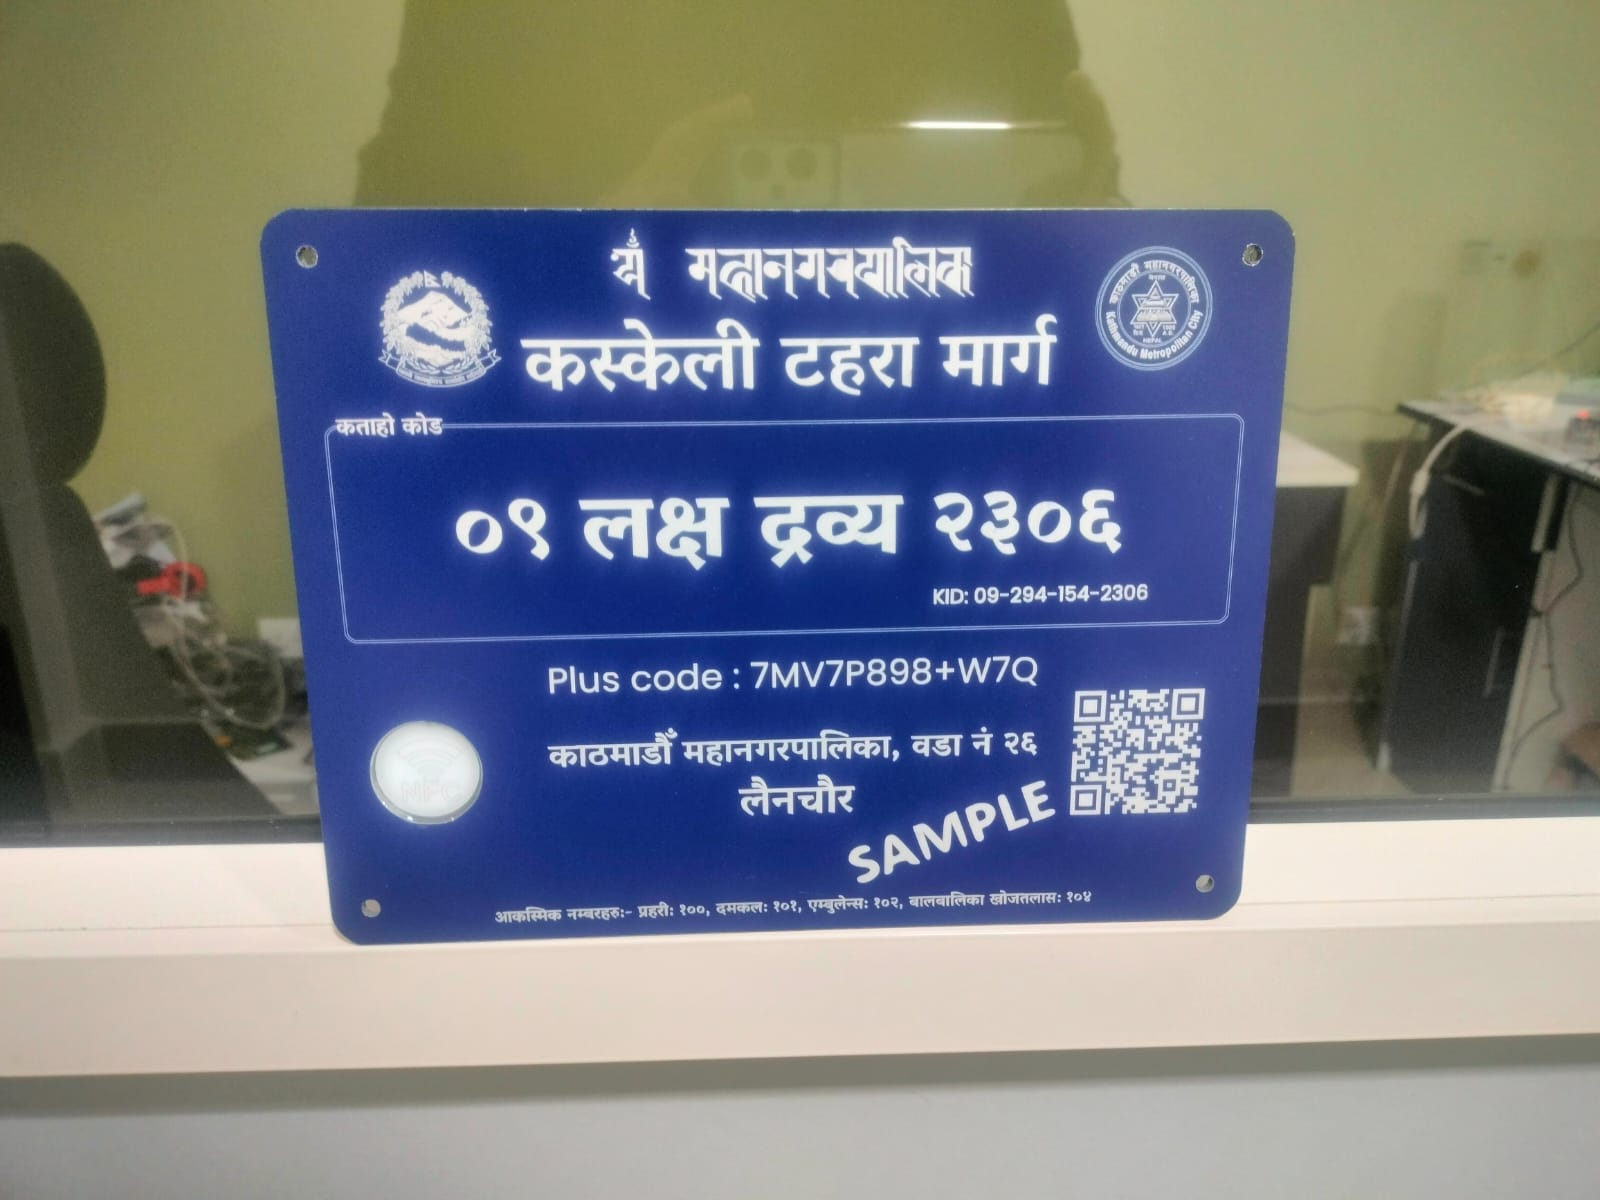Plate: (254, 201, 1309, 948)
